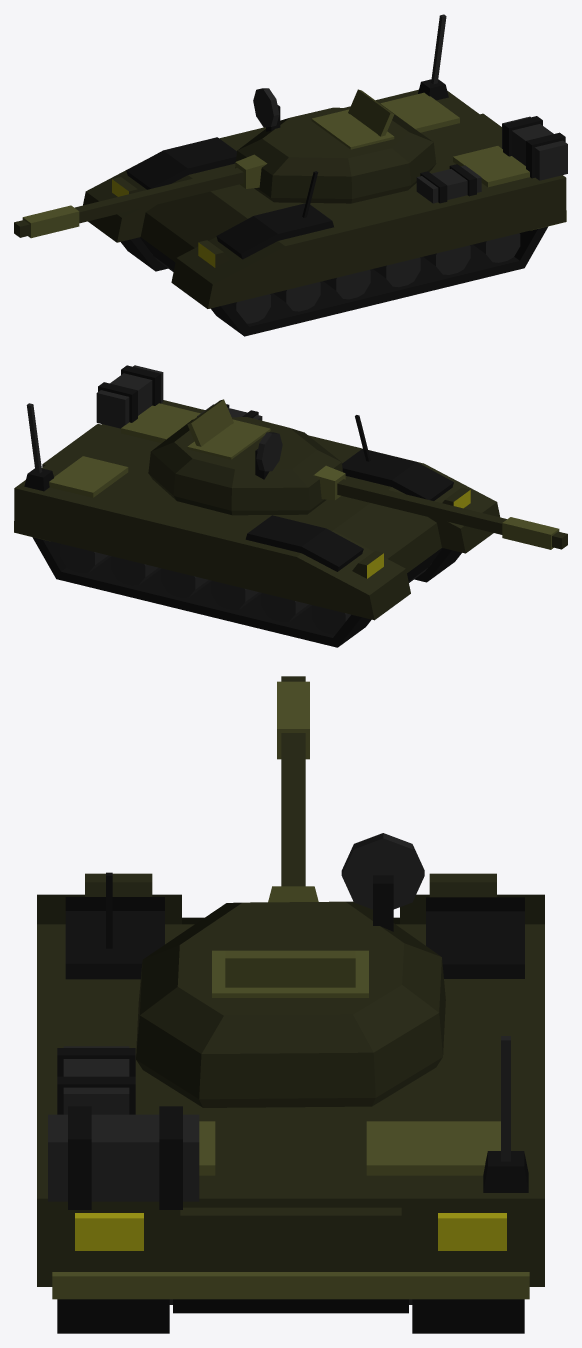
Rendered from Tank.fbx.
3 renders of one model, top to bottom at view 1: azimuth 30°, elevation 25°; view 2: azimuth 150°, elevation 25°; view 3: azimuth 270°, elevation 25°, orthographic. The views are drawn at different scales.
Visible parts, largest first — view 1: Cube.002, Tower; view 2: Cube.002, Tower; view 3: Cube.002, Tower.
Part boxes in pixels (<box>): Cube.002: <box>83,14,567,336</box>; Tower: <box>14,88,436,238</box>; Cube.002: <box>14,365,499,647</box>; Tower: <box>148,399,567,549</box>; Cube.002: <box>37,872,544,1333</box>; Tower: <box>136,676,445,1107</box>.
Size of the model in its own units: 447 by 141 by 199.
